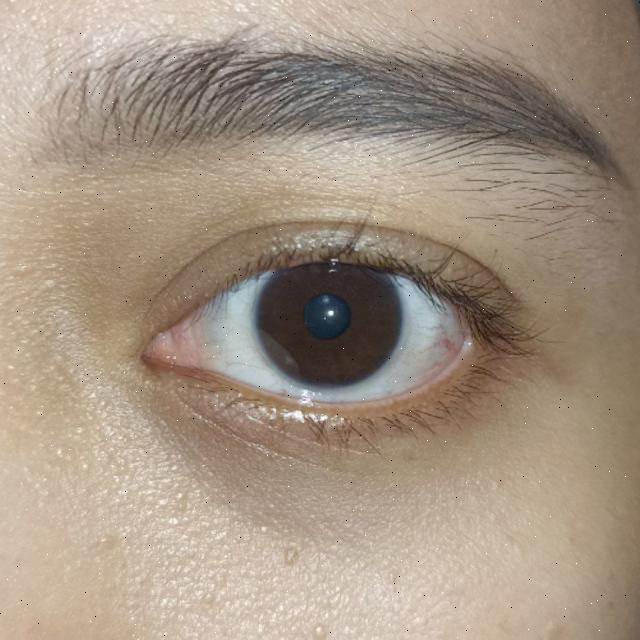Normal: (250, 247, 402, 392)
